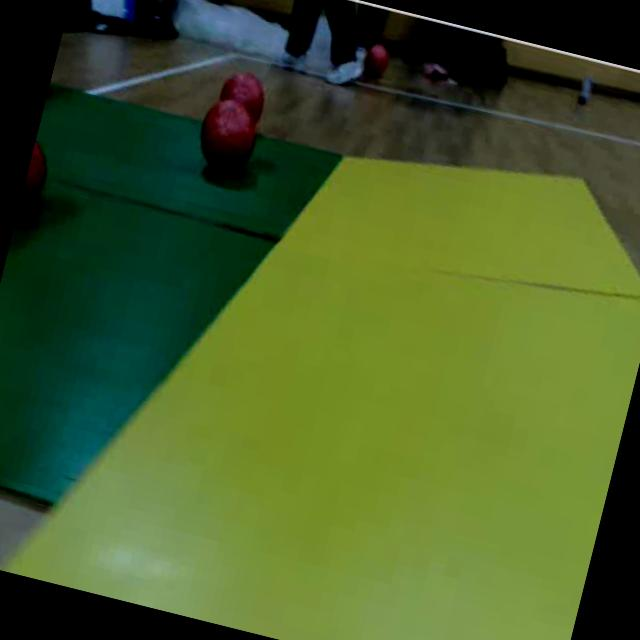red_ball: (189, 98, 265, 180), (212, 61, 274, 132), (356, 40, 394, 83)
